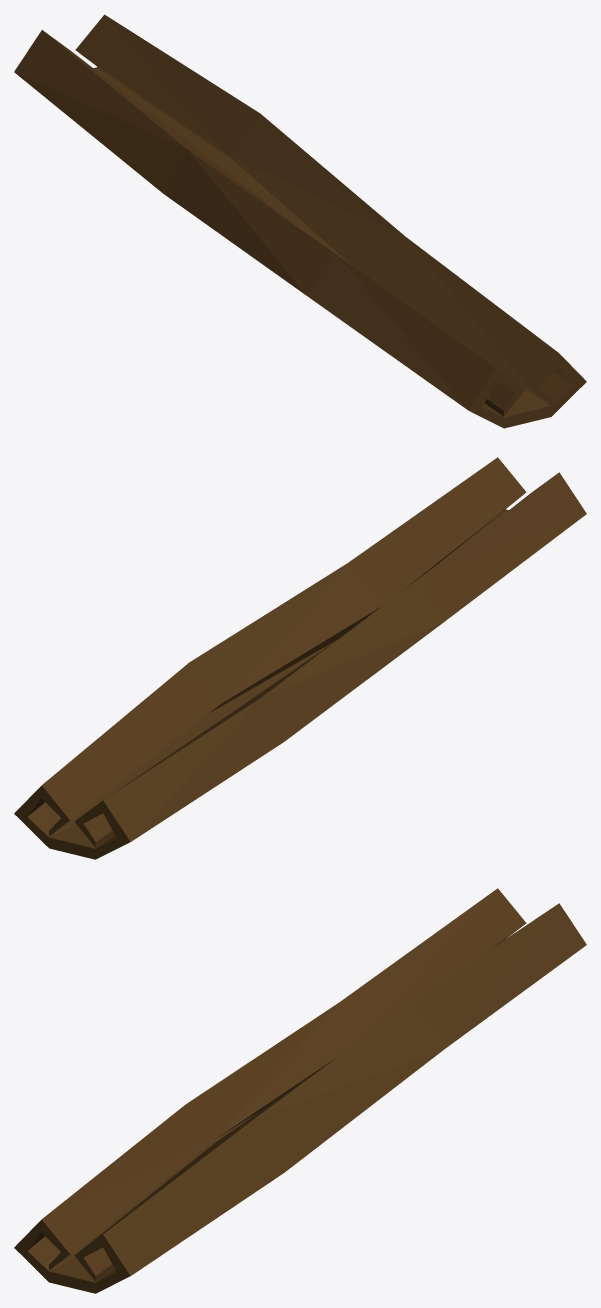
The model's file is SM_CinnamonStick.fbx.
3 views of the same model, one above another, from view 1: azimuth 30°, elevation 25°; view 2: azimuth 150°, elevation 25°; view 3: azimuth 330°, elevation 25° (orthographic).
Parts seen in each view (by area): view 1: Cinnamon_Stick; view 2: Cinnamon_Stick; view 3: Cinnamon_Stick.
Boxes of the visible parts, x1,y1,x2,y2 form: Cinnamon_Stick: [14, 14, 586, 428]; Cinnamon_Stick: [14, 457, 586, 859]; Cinnamon_Stick: [14, 888, 586, 1293].
Bounding box in the file's own units: 0.0655 × 0.0379 × 0.3704.
